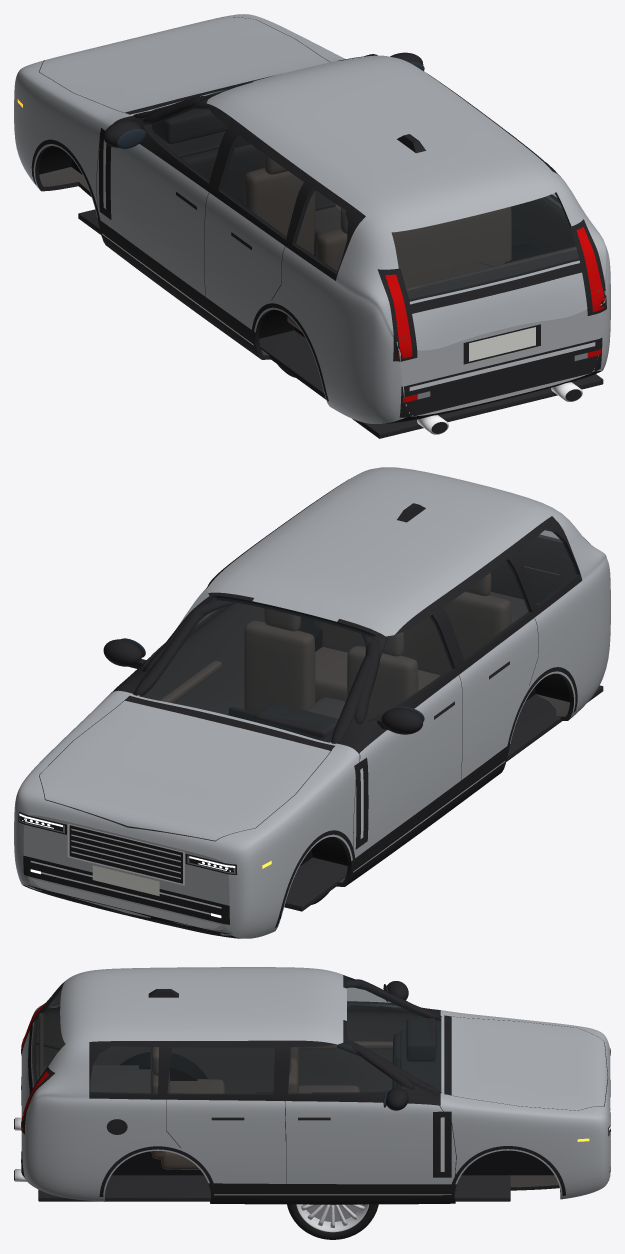
File: suv.glb
3 views of the same model, one above another, from view 1: azimuth 30°, elevation 25°; view 2: azimuth 150°, elevation 25°; view 3: azimuth 270°, elevation 25° (orthographic). The views are drawn at different scales.
Parts seen in each view (by area): view 1: Part_CarPaint.003, Part_CarPaint.001, Part_CarPaint.006, Part_CarPaint, Part_CarPaint.013, Part_CarPaint.004, Part_CarPaint.014, Part_CarPaint.007, Part_CarPaint.012, Part_CarPaint.011, Part_CarPaint.008; view 2: Part_CarPaint.003, Part_CarPaint.006, Part_CarPaint.001, Part_CarPaint, Part_CarPaint.004, Part_CarPaint.013, Part_CarPaint.008, Part_CarPaint.012, Part_CarPaint.007, Part_CarPaint.011; view 3: Part_CarPaint.003, Part_CarPaint.006, Part_CarPaint.001, Part_CarPaint.004, Part_CarPaint.013, Part_CarPaint.007, Part_CarPaint, W_Rubber_Tire, Part_CarPaint.012, W_RimAlloy_RimBarrel, W_RimAlloy_RimSpokes, W_BrakeDisc_InnerDisc.
Boxes of the visible parts, x1,y1,x2,y2 form: Part_CarPaint.003: (14, 14, 610, 423); Part_CarPaint.001: (31, 52, 606, 433); Part_CarPaint.006: (147, 88, 578, 300); Part_CarPaint: (244, 154, 511, 331); Part_CarPaint.013: (39, 17, 603, 438); Part_CarPaint.004: (39, 125, 599, 355); Part_CarPaint.014: (385, 227, 604, 402); Part_CarPaint.007: (32, 146, 544, 338); Part_CarPaint.012: (102, 140, 595, 390); Part_CarPaint.011: (469, 327, 535, 361); Part_CarPaint.008: (417, 382, 582, 434); Part_CarPaint.003: (14, 467, 610, 938); Part_CarPaint.006: (141, 530, 577, 742); Part_CarPaint.001: (18, 479, 589, 937); Part_CarPaint: (160, 572, 511, 717); Part_CarPaint.004: (143, 534, 575, 882); Part_CarPaint.013: (39, 616, 603, 911); Part_CarPaint.008: (30, 823, 221, 917); Part_CarPaint.012: (31, 761, 505, 930); Part_CarPaint.007: (279, 617, 569, 918); Part_CarPaint.011: (92, 865, 159, 896); Part_CarPaint.003: (21, 967, 610, 1201); Part_CarPaint.006: (34, 980, 440, 1093); Part_CarPaint.001: (14, 975, 610, 1204); Part_CarPaint.004: (23, 1005, 558, 1196); Part_CarPaint.013: (38, 1016, 608, 1201); Part_CarPaint.007: (112, 1052, 553, 1175); Part_CarPaint: (150, 1041, 392, 1169); W_Rubber_Tire: (287, 1204, 378, 1239); Part_CarPaint.012: (214, 1109, 610, 1195); W_RimAlloy_RimBarrel: (296, 1204, 369, 1232); W_RimAlloy_RimSpokes: (301, 1204, 364, 1227); W_BrakeDisc_InnerDisc: (303, 1204, 362, 1221).
Size of the model in its own units: 2.46 by 2.31 by 5.12.
